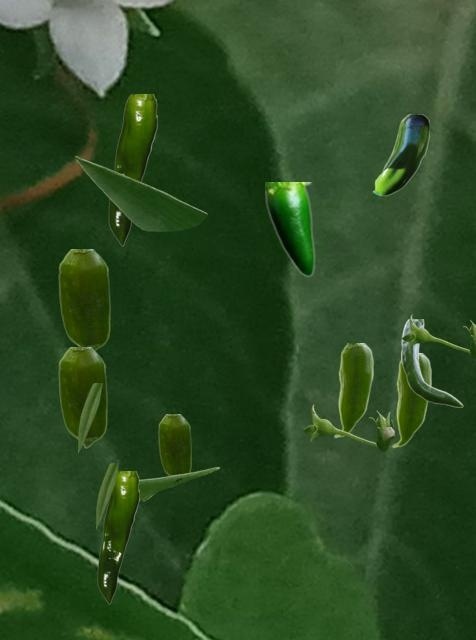green_chili: (108, 94, 156, 245), (97, 471, 138, 603), (401, 319, 462, 406), (58, 249, 109, 350), (58, 347, 106, 447), (265, 182, 314, 276), (372, 114, 428, 195), (333, 343, 372, 437), (392, 353, 430, 447), (158, 414, 190, 474)
